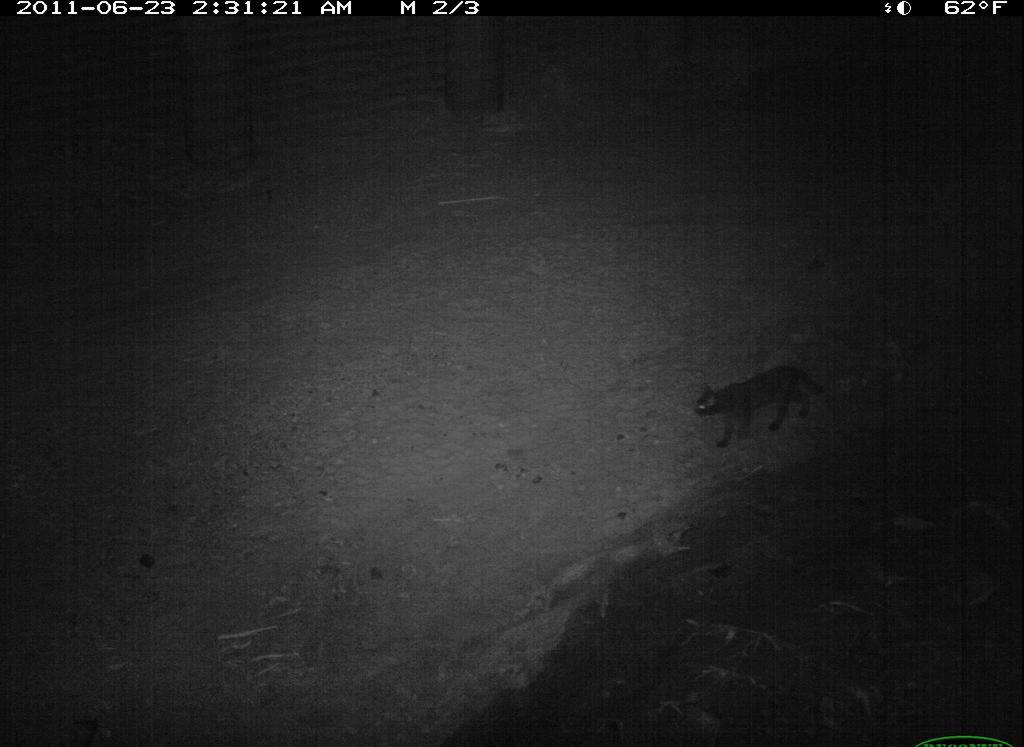cat: (675, 348, 849, 463)
